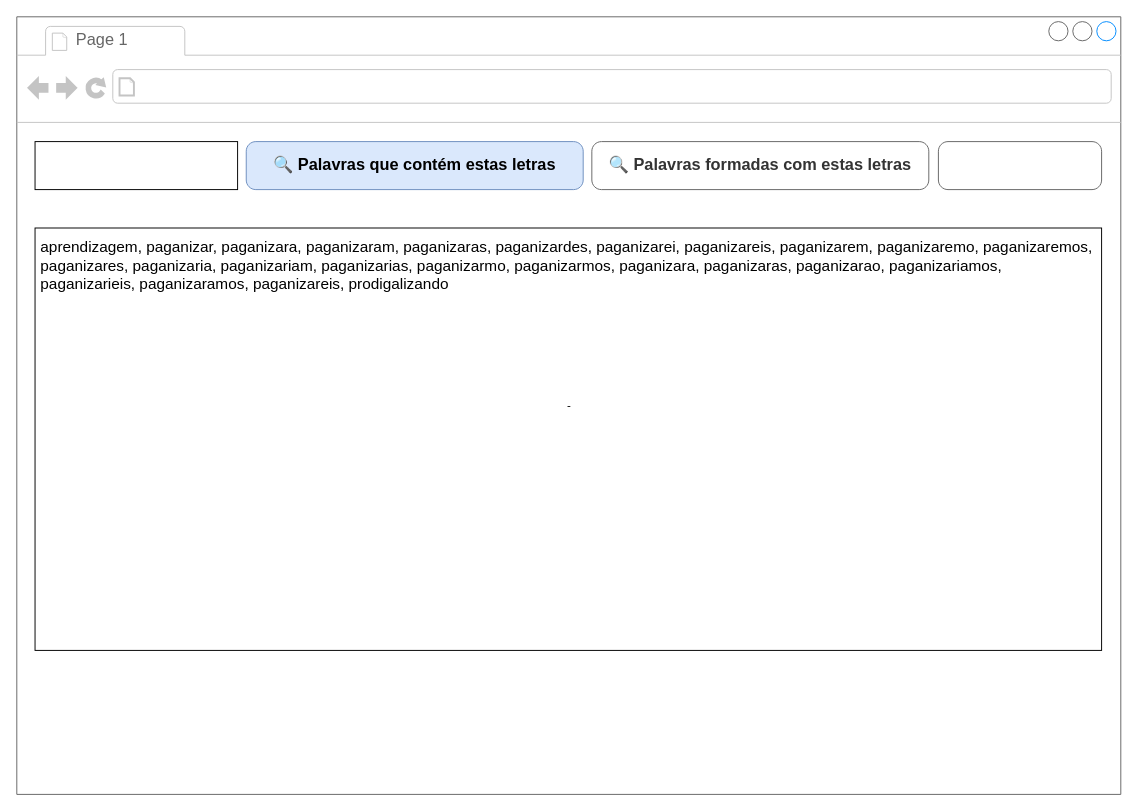
Image size: 1138x811. Some labels were removed from this diagram. Each missing label, with the centre of its shape:
https://dbo.palavras.io: the point at 261,86
pringza: the point at 136,165
🗑️ Limpar: the point at 1019,165
